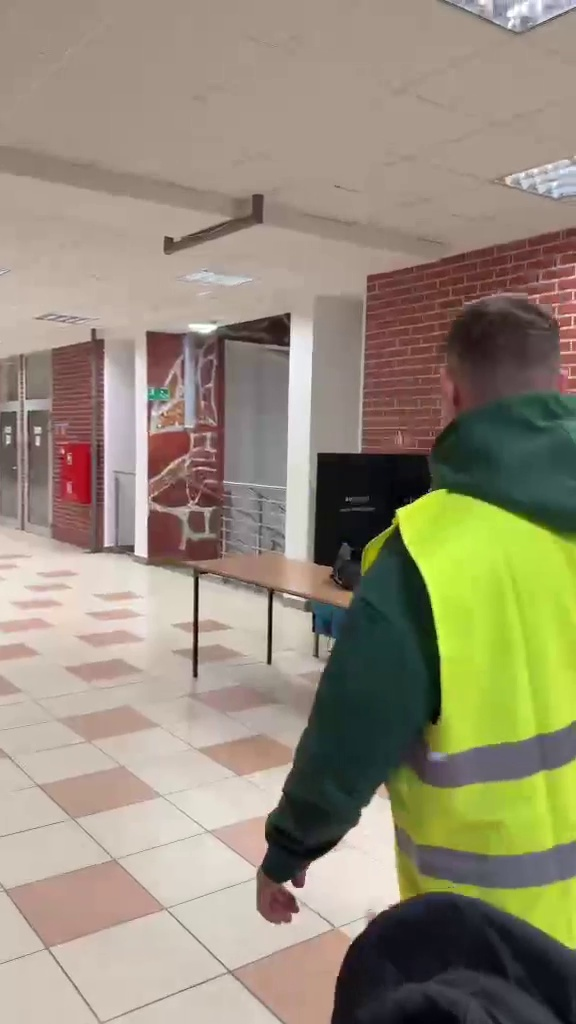vest: (261, 279, 575, 956)
